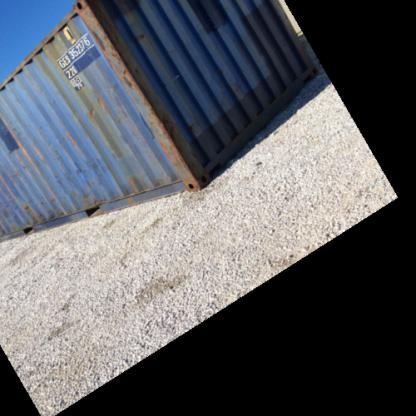Damage: (86, 20, 150, 90), (72, 154, 104, 208), (150, 105, 183, 151), (14, 132, 41, 170), (127, 168, 165, 192), (37, 192, 68, 220), (20, 193, 31, 219), (85, 100, 98, 122)
